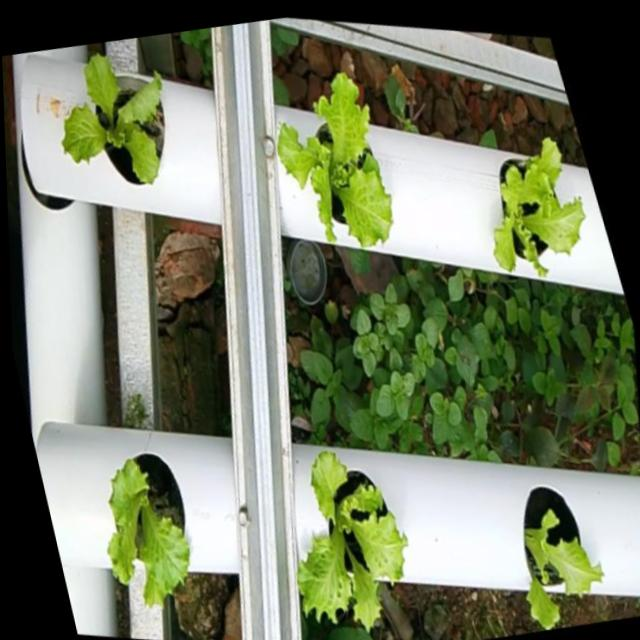Baby: (295, 454, 405, 637), (275, 77, 389, 252), (59, 59, 163, 191), (490, 139, 581, 279), (106, 458, 187, 612), (521, 487, 600, 630)
